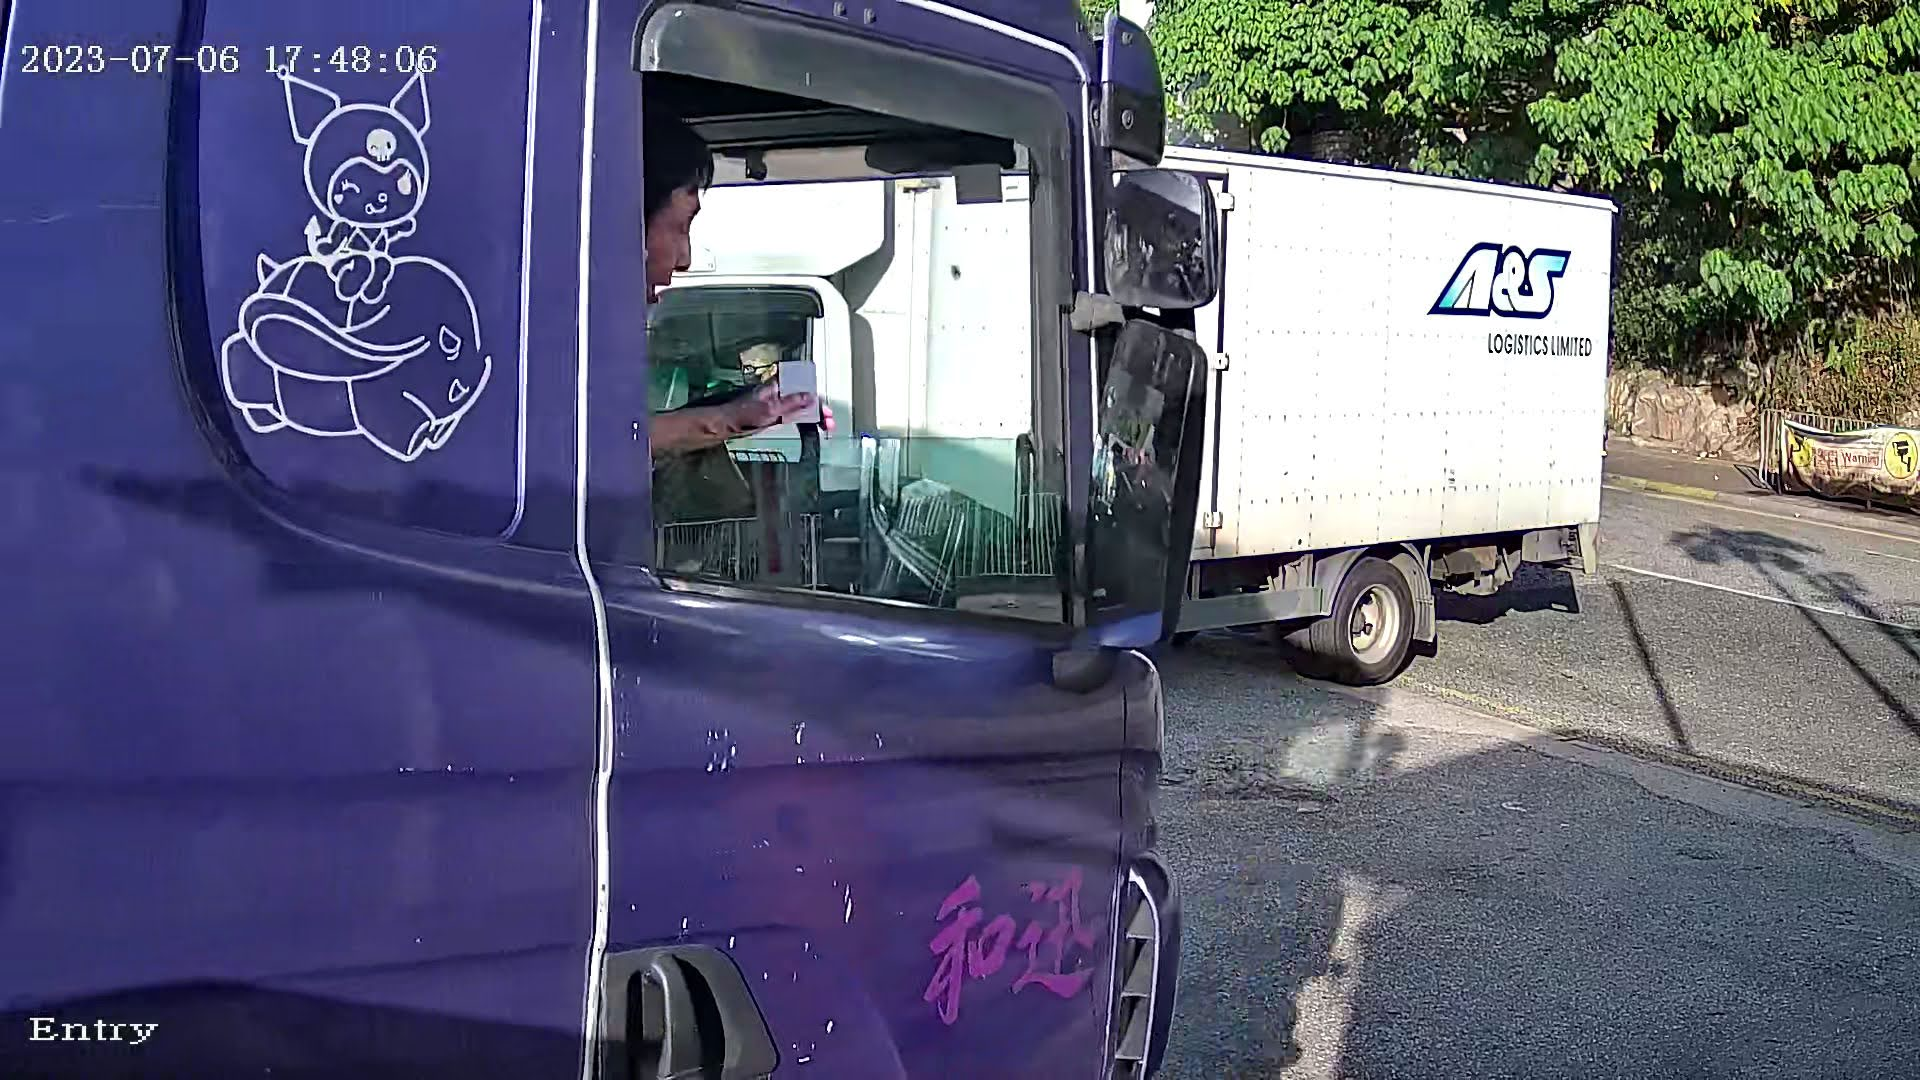truck_small: (603, 1, 1679, 680)
